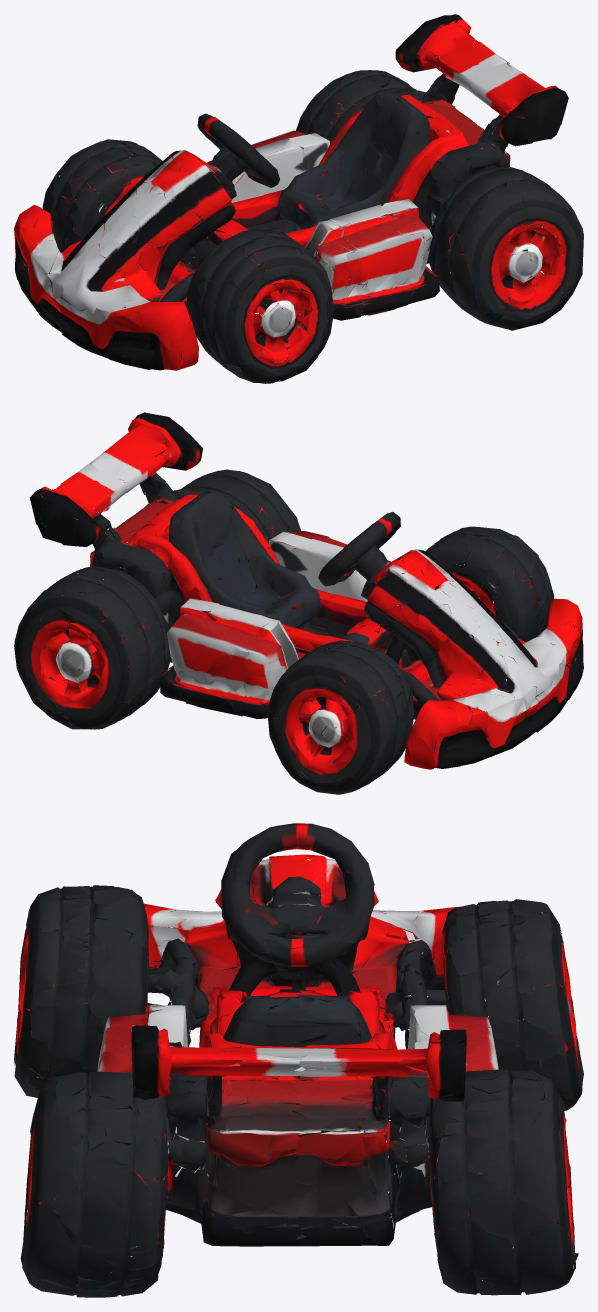
File: v-cc72c133.kart.glb
3 views of the same model, one above another, from view 1: azimuth 30°, elevation 25°; view 2: azimuth 150°, elevation 25°; view 3: azimuth 270°, elevation 25° (orthographic). The views are drawn at different scales.
Visible parts, largest first — view 1: Mesh_0; view 2: Mesh_0; view 3: Mesh_0.
Part boxes in pixels (<box>): Mesh_0: <box>14,14,583,383</box>; Mesh_0: <box>14,412,583,794</box>; Mesh_0: <box>14,823,583,1297</box>.
Size of the model in its own units: 1.95 by 0.8389 by 1.43.
Materials: 1 (1 with a texture image).
